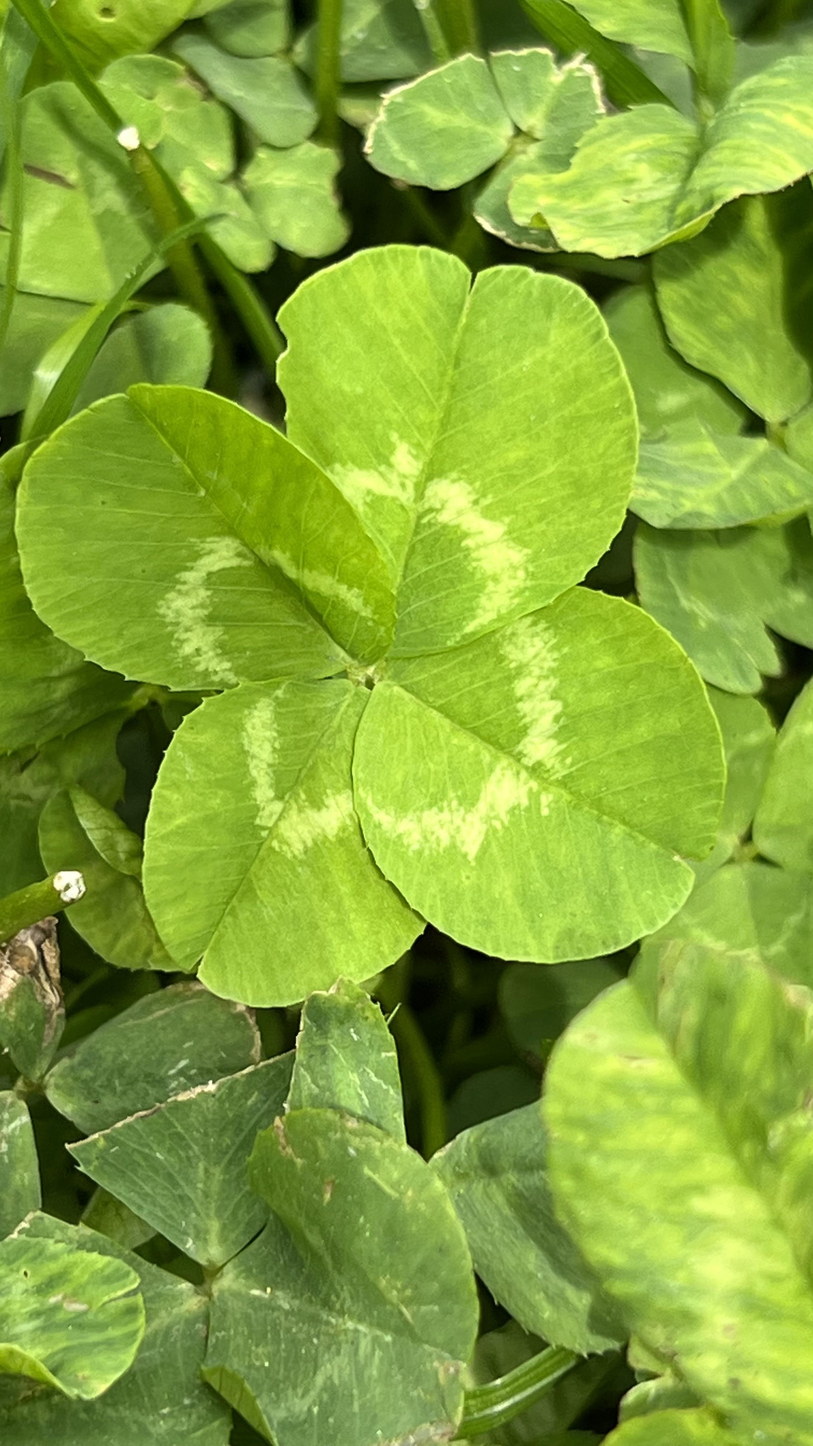4-Leaf-Clovers: (143, 147, 568, 1389)
